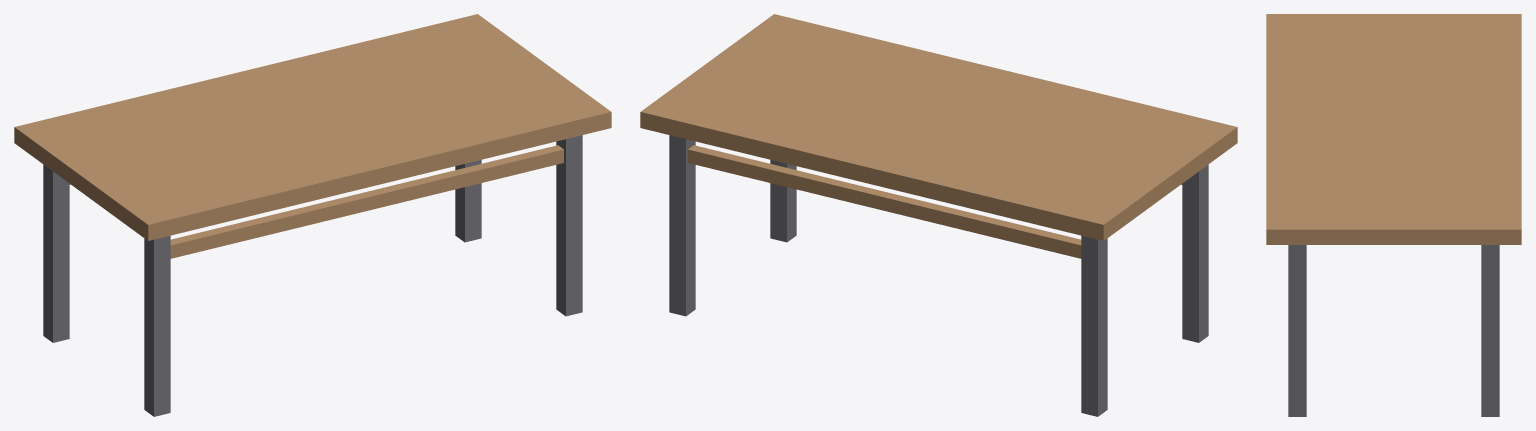
File: demo-tavolo.glb
The picture shows the model from 3 angles, left to right: view 1: azimuth 30°, elevation 25°; view 2: azimuth 150°, elevation 25°; view 3: azimuth 270°, elevation 25°; orthographic projection. The views are drawn at different scales.
Parts seen in each view (by area): view 1: Piano, Gamba (×4), Traverse2; view 2: Piano, Gamba (×4), Traverse; view 3: Piano, Gamba (×2).
Part boxes in pixels (<box>): Piano: <box>14,14,611,240</box>; Gamba (×4): <box>43,135,582,416</box>; Traverse2: <box>170,145,563,258</box>; Piano: <box>640,14,1237,240</box>; Gamba (×4): <box>669,135,1208,416</box>; Traverse: <box>688,145,1081,258</box>; Piano: <box>1266,14,1521,244</box>; Gamba (×2): <box>1288,245,1499,416</box>.
Size of the model in its own units: 1.8 by 0.76 by 0.9.
